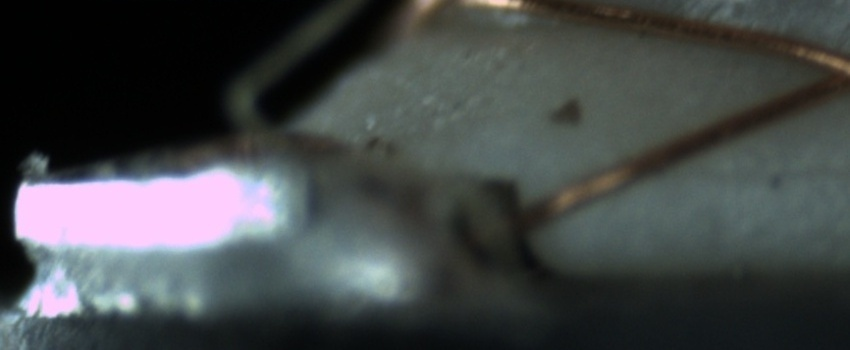CL: (800, 37, 850, 105)
DL: (671, 140, 849, 201)
